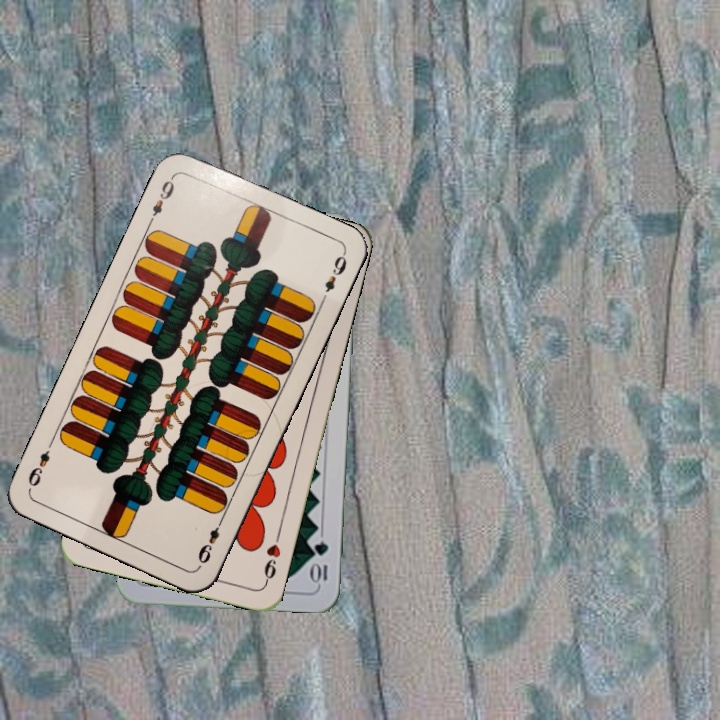E9: (144, 171, 177, 227), (194, 513, 227, 567)
G10: (310, 537, 331, 587)
H9: (260, 529, 284, 587)
